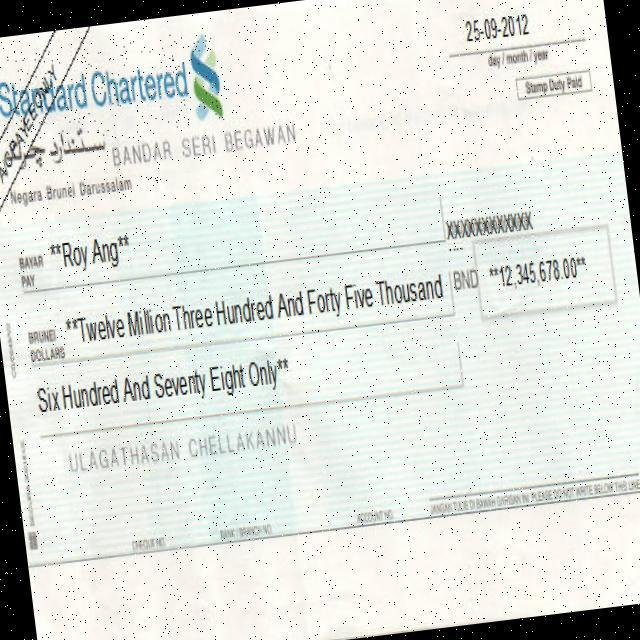Standard Chartered: (0, 28, 225, 148)
